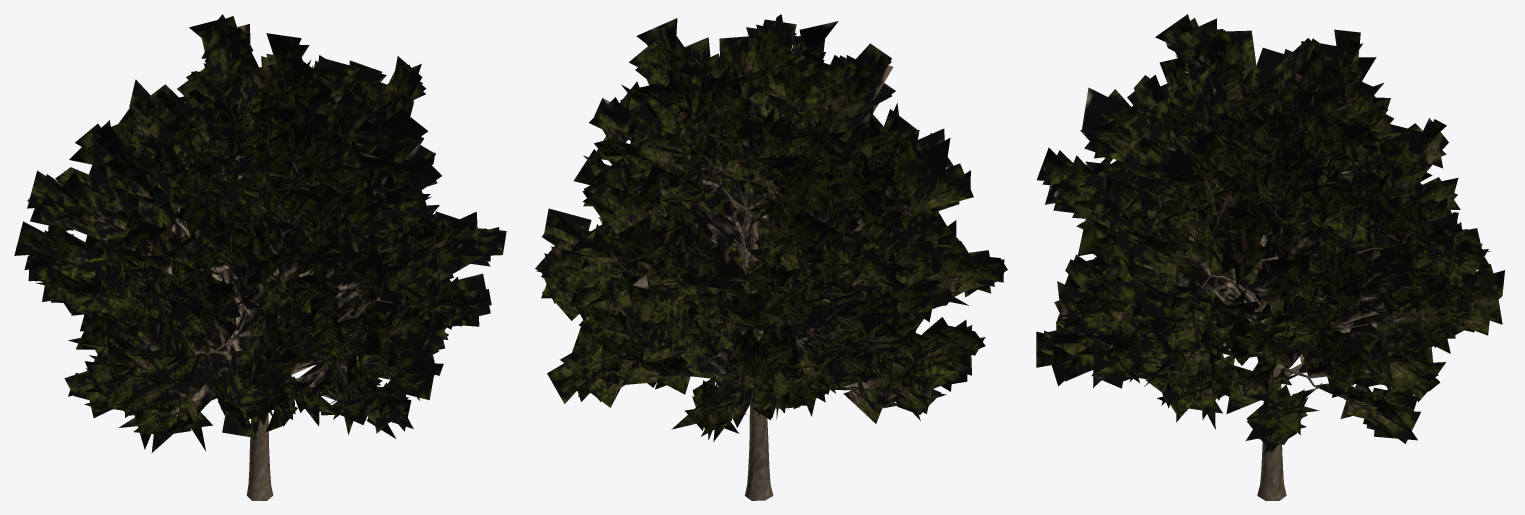
The model's file is tree2.obj.
3 views of the same model, side by side, from view 1: azimuth 30°, elevation 25°; view 2: azimuth 150°, elevation 25°; view 3: azimuth 270°, elevation 25° (orthographic).
Parts seen in each view (by area): view 1: Bake; view 2: Bake; view 3: Bake.
Boxes of the visible parts, left/top/right/bottom form: Bake: left=14, top=14, right=506, bottom=500; Bake: left=535, top=14, right=1007, bottom=500; Bake: left=1036, top=14, right=1504, bottom=500.
Bounding box in the file's own units: 67.73 × 76.33 × 70.08.
1 material, 1 textured.
